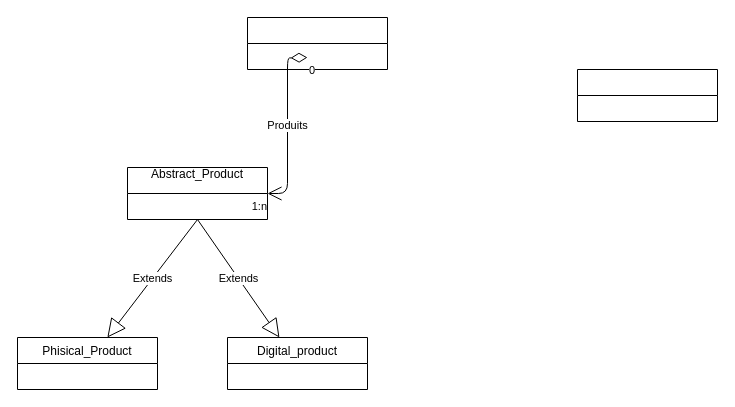
Image size: 735x407. Some labels were removed from this diagram. The shapes that lost their labels are listed below. From the top down, each one's box as (x1, y1, x2, y2) in pixels, then its label:
(246, 16, 388, 70): Order
(576, 68, 718, 122): Price_Abstract
